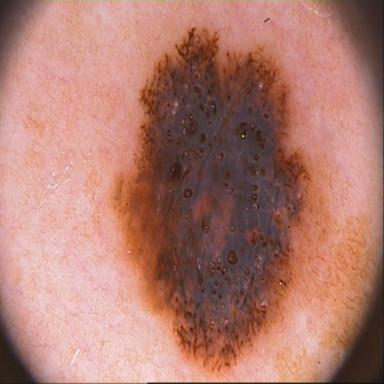nevus: (115, 27, 377, 380)
